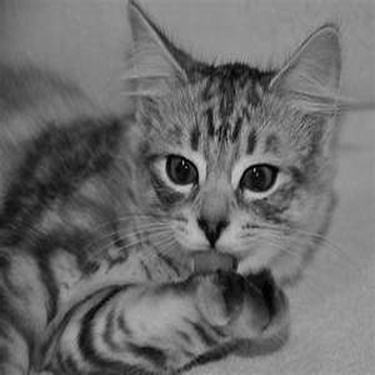cat: (5, 4, 346, 371)
